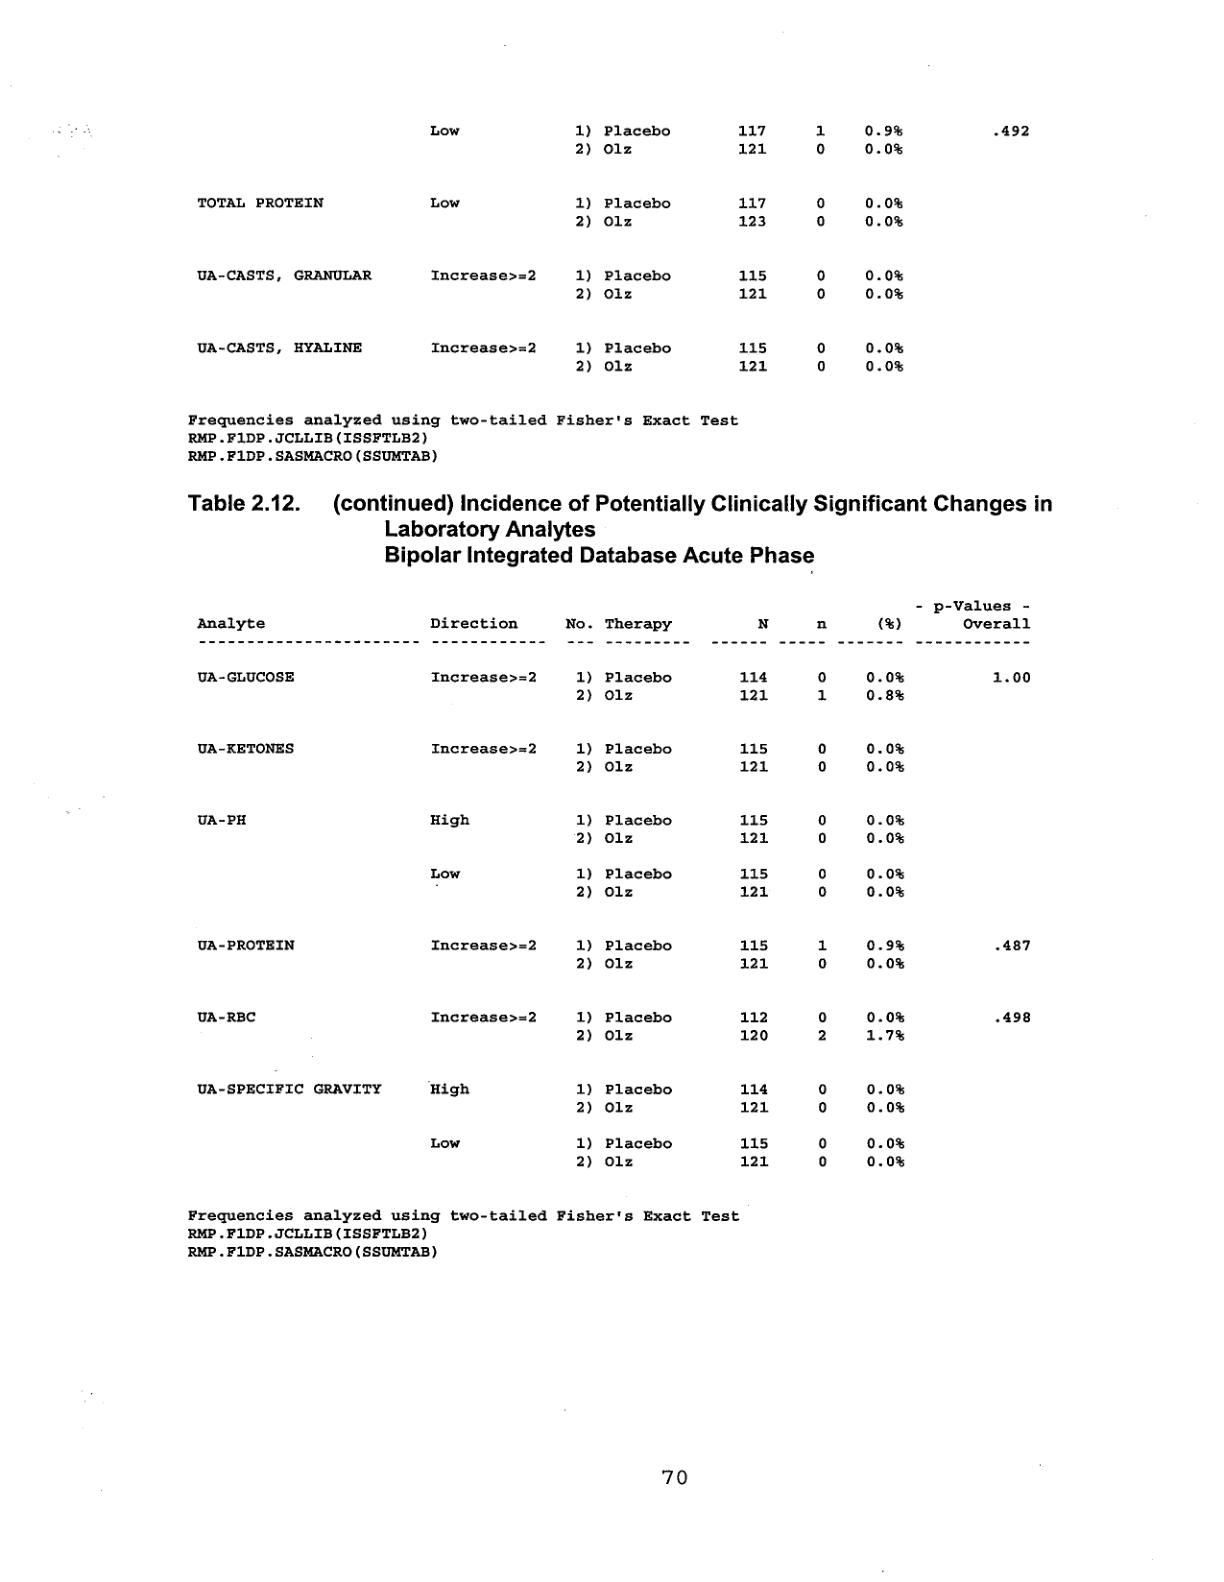nolines: (193, 597, 1036, 1174), (193, 117, 911, 378)
